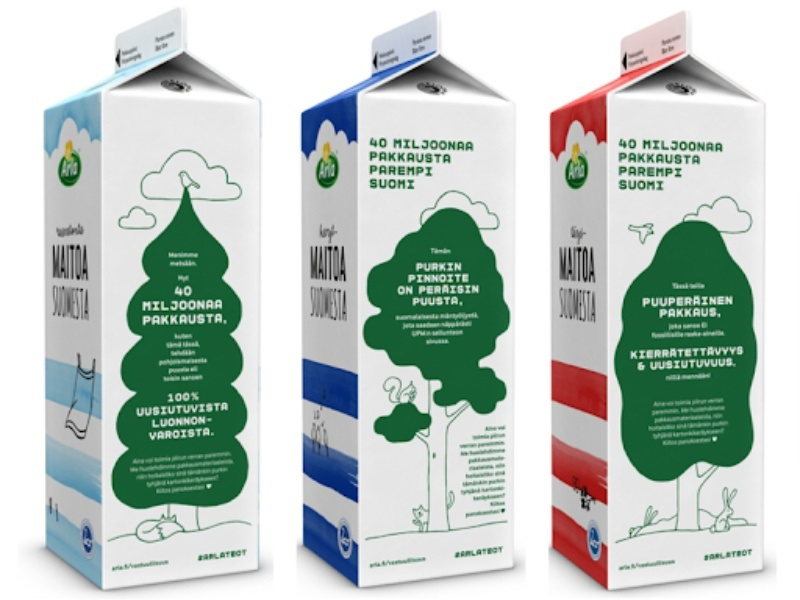milk: (3, 1, 278, 600), (279, 11, 556, 591), (533, 1, 793, 597)
